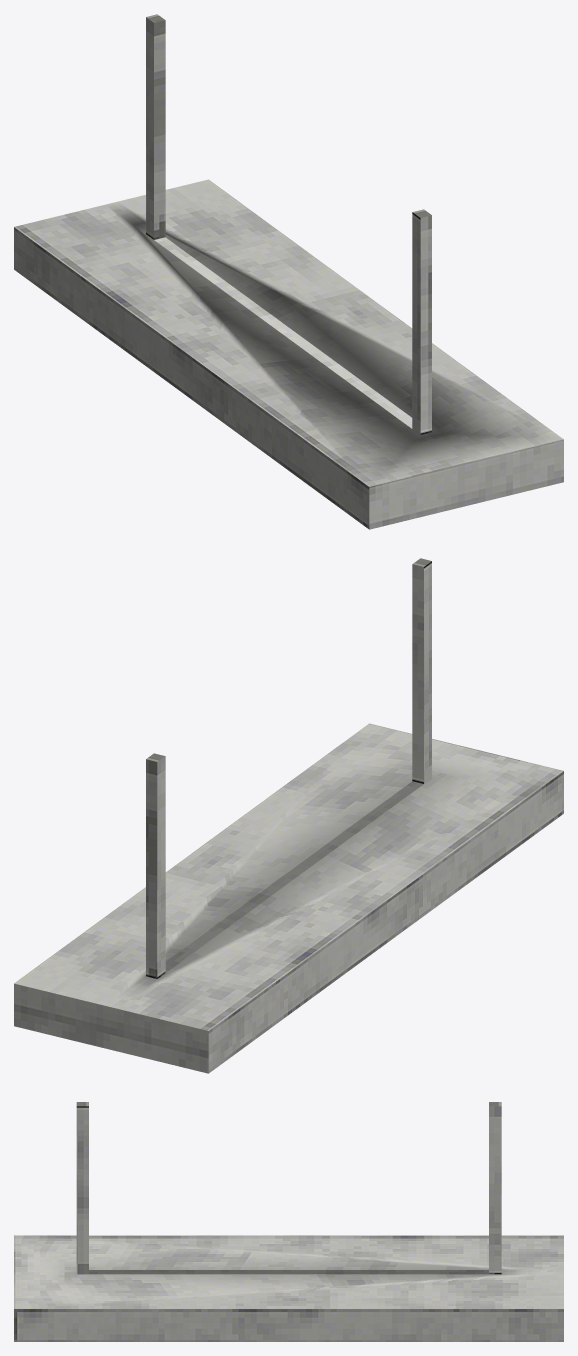
The model's file is SM_CeilingLight_L.fbx.
The picture shows the model from 3 angles, top to bottom: view 1: azimuth 30°, elevation 25°; view 2: azimuth 150°, elevation 25°; view 3: azimuth 270°, elevation 25°; orthographic projection. The views are drawn at different scales.
Visible parts, largest first — view 1: SM_CeilingLight_L; view 2: SM_CeilingLight_L; view 3: SM_CeilingLight_L.
Part boxes in pixels (left/top/right/bottom): SM_CeilingLight_L: left=14, top=14, right=563, bottom=529; SM_CeilingLight_L: left=14, top=558, right=563, bottom=1073; SM_CeilingLight_L: left=14, top=1102, right=563, bottom=1341.
Bounding box in the file's own units: 41.94 × 53.48 × 133.
